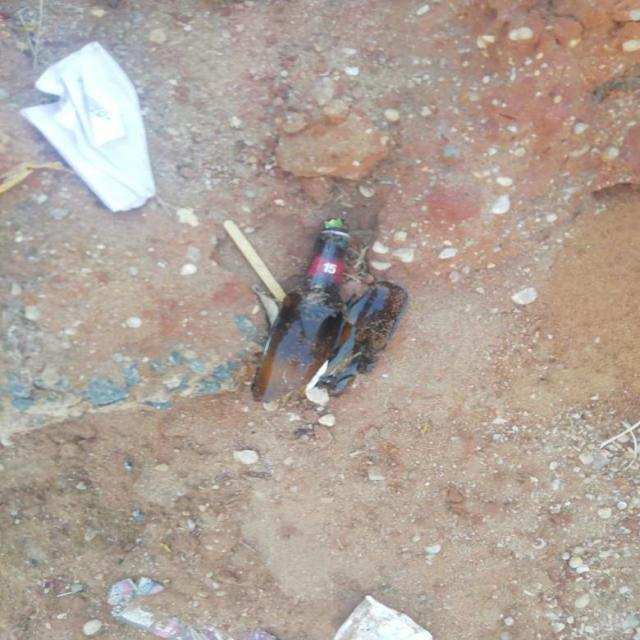glass: (251, 219, 350, 402), (318, 282, 408, 395)
paper: (20, 41, 154, 211)
